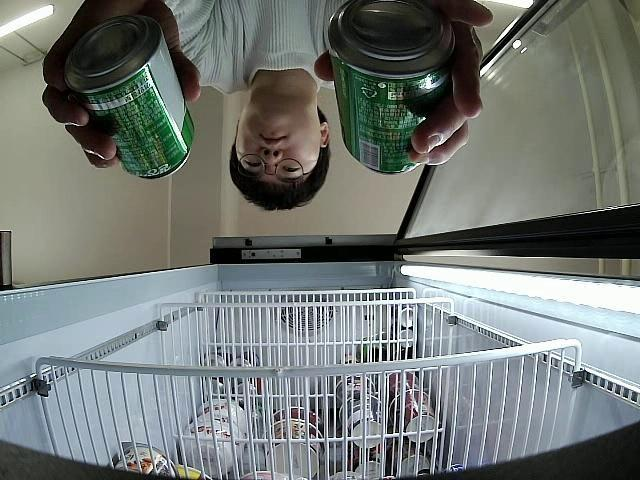12_chilsungCider: (326, 0, 454, 176), (62, 14, 195, 181)
